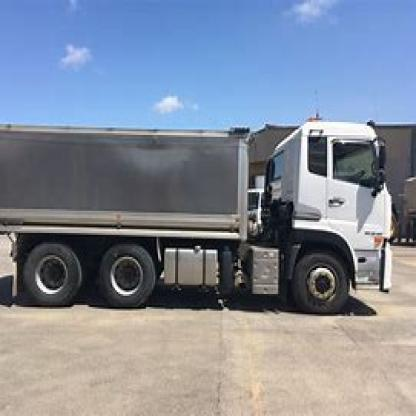dump_truck: (0, 94, 410, 340)
